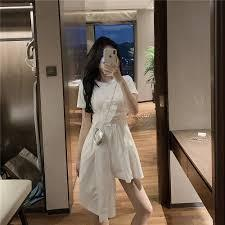Tshirt: (77, 75, 139, 125)
skirt: (76, 121, 147, 220)
